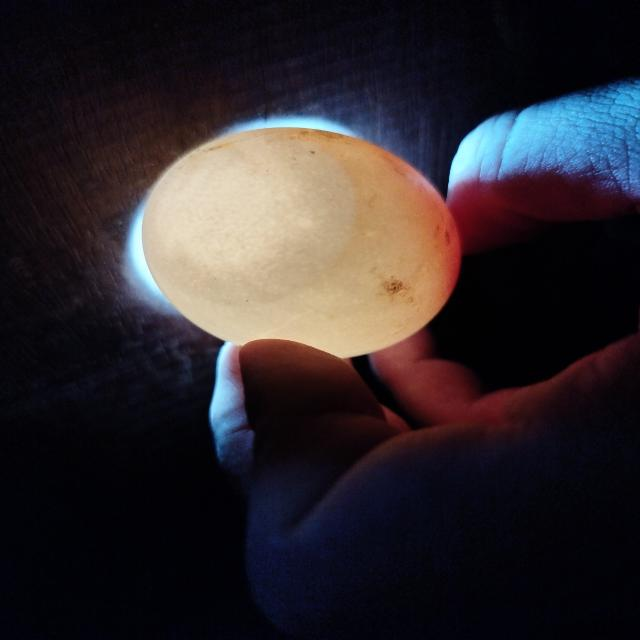Camara de Ar: (142, 132, 356, 305)
Gema Quebrada: (367, 149, 460, 309)
